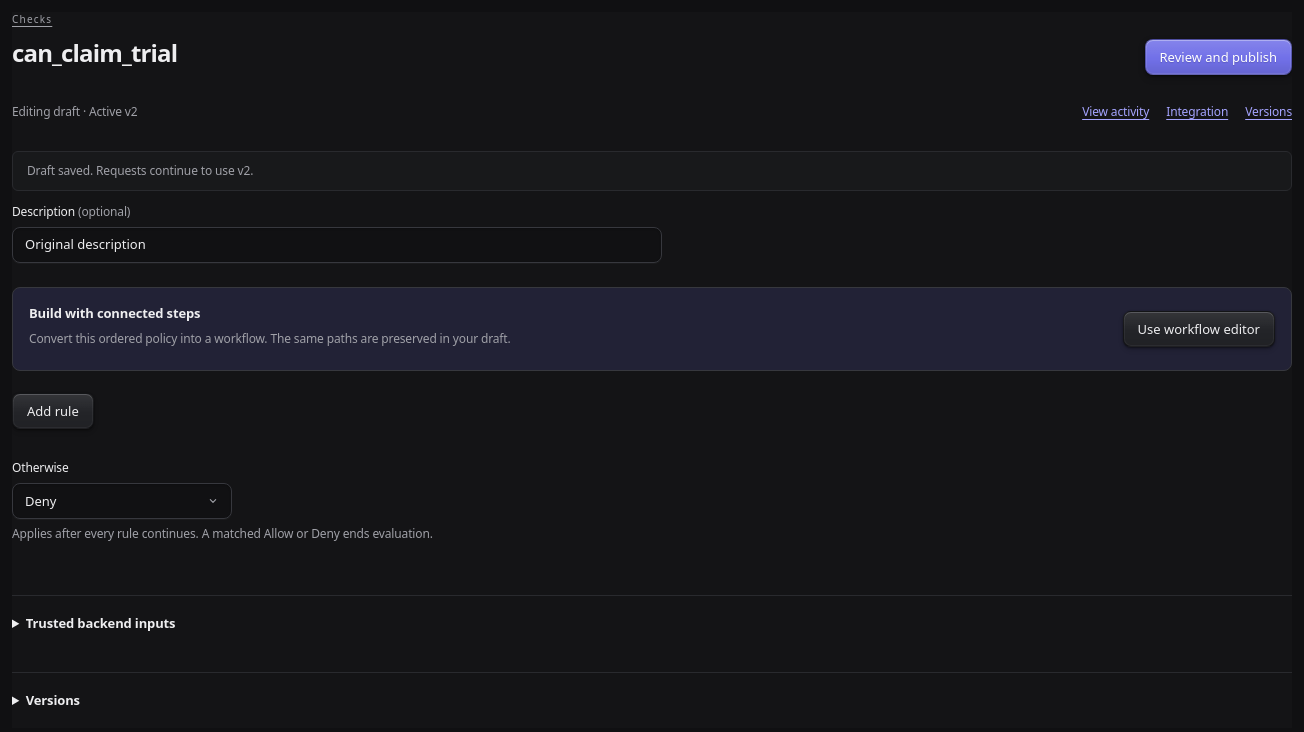
check workflows › keeps edits and blocks publication after a failed save, with navigation protection and explicit retry
Select "Allow" in the dropdown labelled "Otherwise" at (122, 501), box [12, 483, 232, 519]
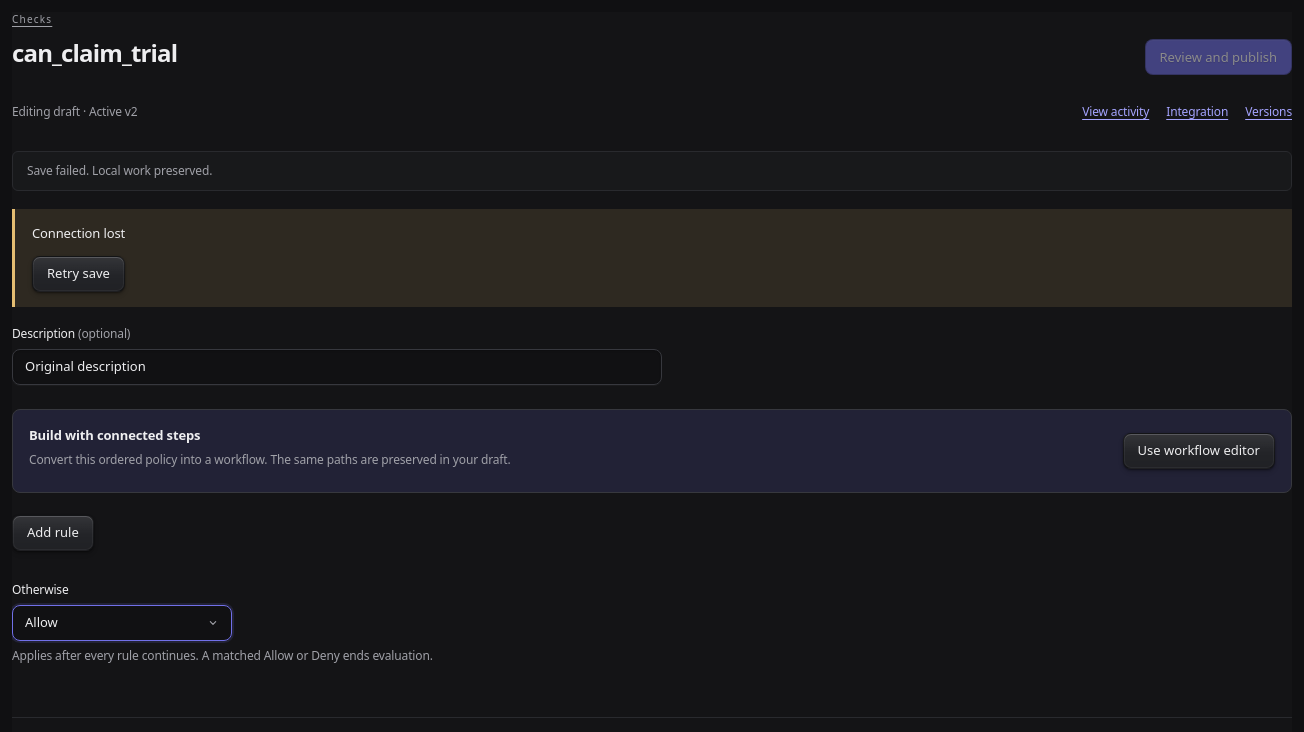
Expected: the text "Save failed. Local work preserved." is shown, [12, 151, 1292, 191]
Expected: the button "Review and publish" is disabled, [1144, 39, 1292, 75]
Click the link "View activity" at (1116, 112), box [1082, 103, 1149, 121]
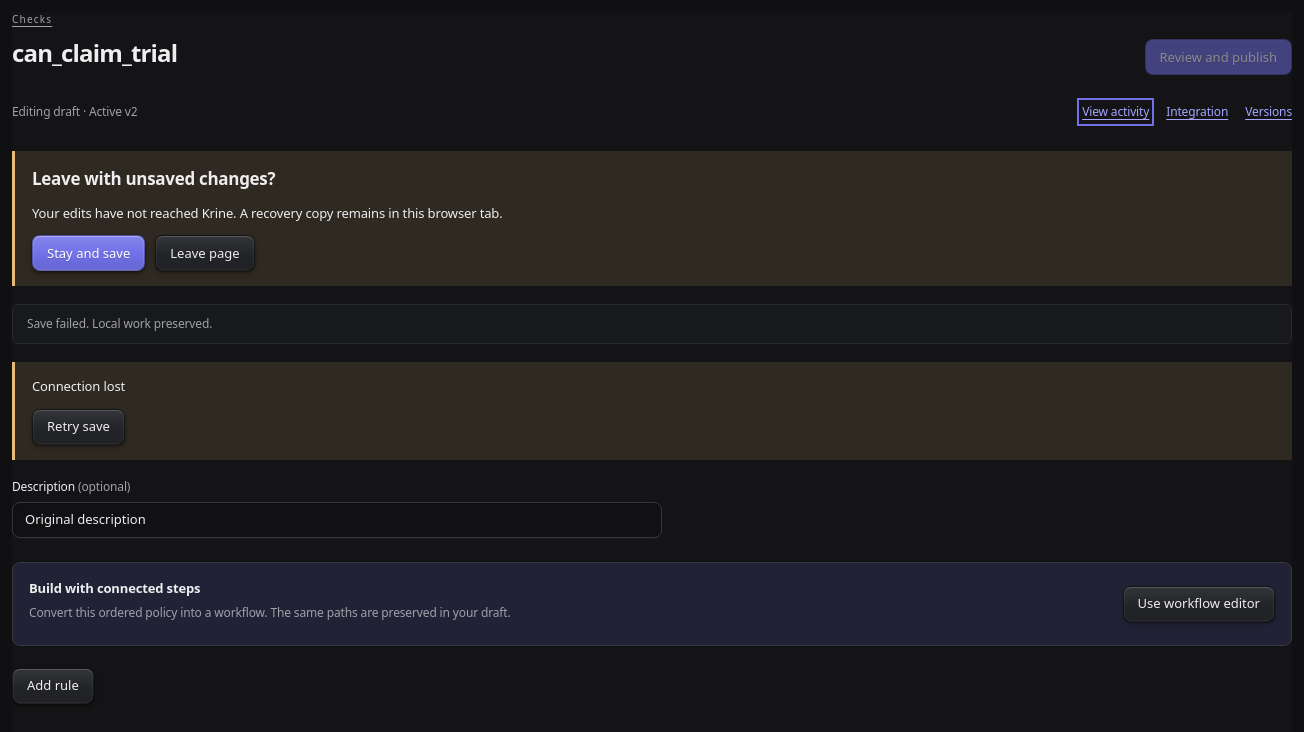
Expected: the heading "Leave with unsaved changes?" is shown, [32, 167, 275, 190]
Click the button "Stay and save" at (89, 253), box [32, 235, 145, 271]
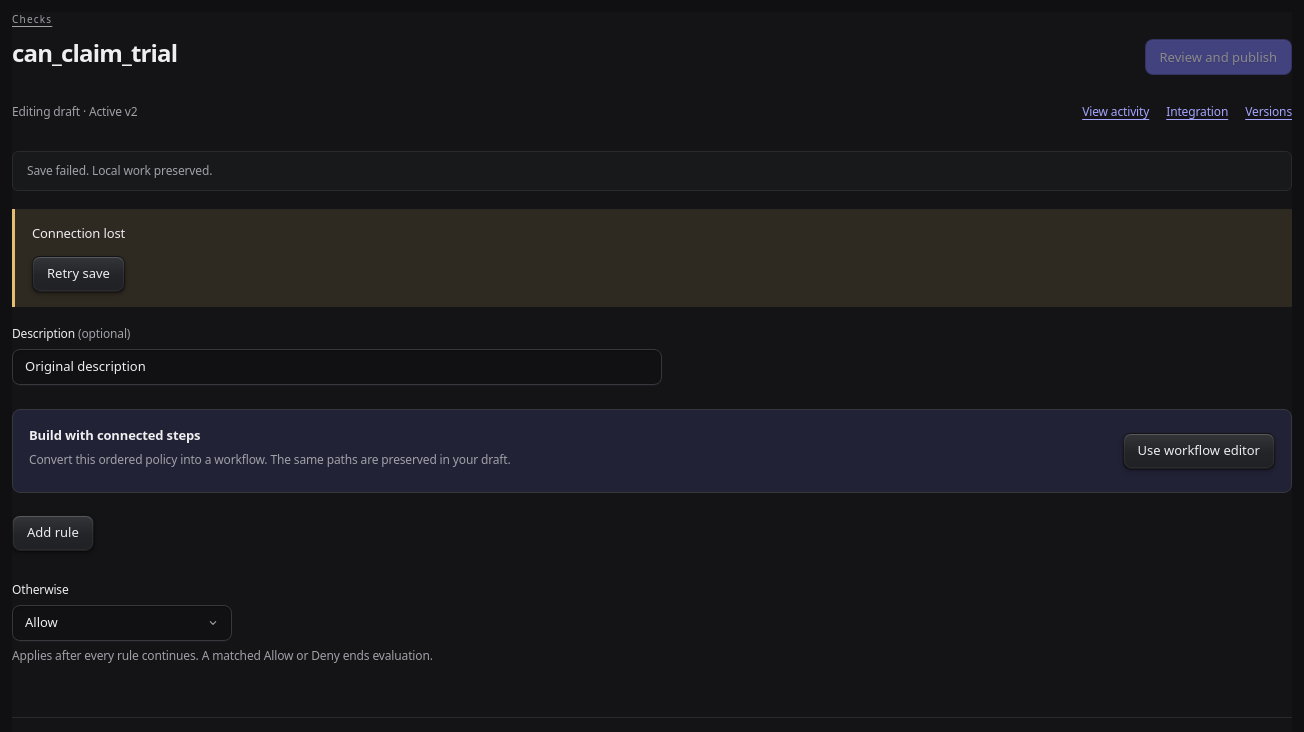
Click the button "Retry save" at (78, 274), box [32, 256, 125, 292]
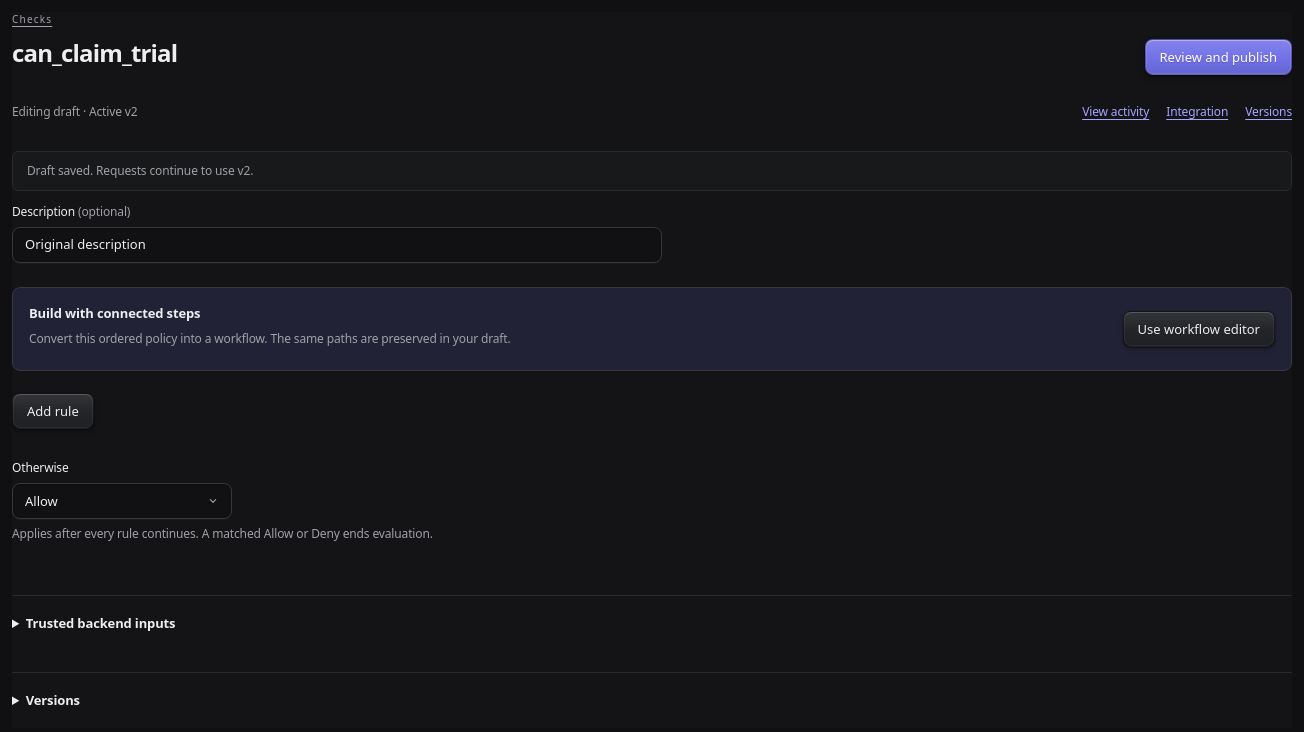
Expected: the text "Draft saved. Requests continue to use v2." is shown, [12, 151, 1292, 191]
Expected: the button "Review and publish" is enabled, [1144, 39, 1292, 75]
